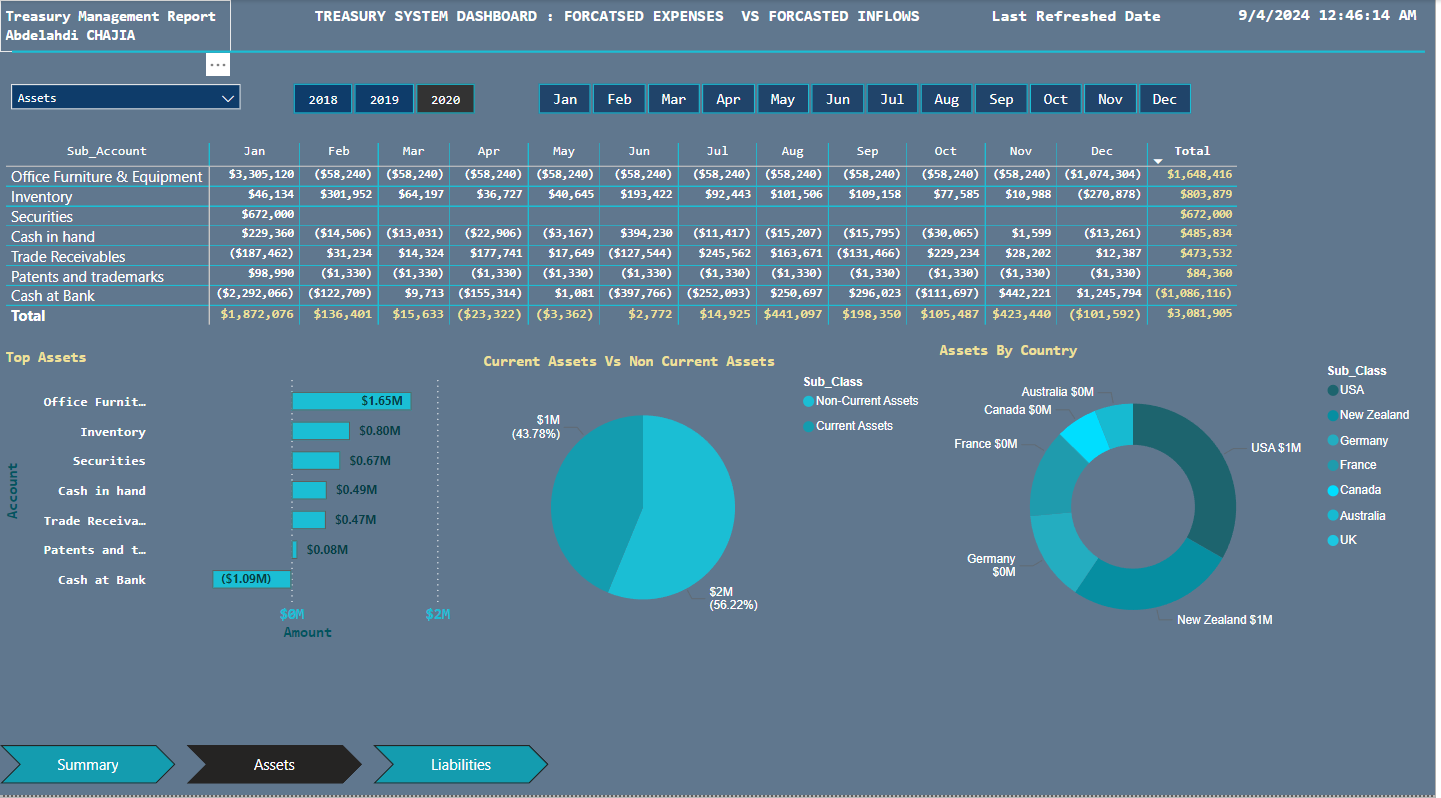

What the dashboard file says about the page in this screenshot:
{"tool":"powerbi","page":{"name":"Assets","canvas":[1300,720],"ordinal":1},"visuals":[{"type":"textbox","box":[279.6,0,567,33.6],"z":0},{"type":"textbox","box":[0,0,209.4,47.4],"z":1000},{"type":"card","fields":{"Values":["Min(Date & Time.Date & Time)"]},"box":[1103.9,0,196.6,24.1],"z":2000},{"type":"textbox","box":[893,0,185.7,33.6],"z":3000},{"type":"pivotTable","fields":{"Values":["GL.Total_Amount"],"Columns":["GL.Month"],"Rows":["GL.Sub_Account"]},"box":[0,124.5,1194.3,179.8],"z":4000},{"type":"slicer","fields":{"Values":["GL.Classe"]},"box":[0,66.5,227.9,44.3],"z":5000},{"type":"slicer","fields":{"Values":["Calendar.Year"]},"box":[240,69.1,214.4,41.5],"z":6000},{"type":"slicer","fields":{"Values":["GL.Month"]},"box":[462.3,69.1,641.1,41.5],"z":7000},{"type":"pieChart","title":"Current Assets Vs Non Current Assets","fields":{"Category":["GL.Sub_Classe_2"],"Y":["GL.Total_Amount"]},"box":[432.7,320.1,413.9,264.7],"z":8000},{"type":"clusteredBarChart","title":"Top Assets","fields":{"Category":["GL.Sub_Acount"],"Y":["GL.Total_Amount"]},"box":[0,316.1,432.7,268.7],"z":9000},{"type":"shape","box":[10.9,41,1280,12.1],"z":10000},{"type":"donutChart","title":"Assets By Country","fields":{"Category":["Territory.Country"],"Y":["GL.Total_Amount"]},"box":[846.6,310.2,444.5,283.5],"z":11000},{"type":"pageNavigator","box":[0,674.7,497.9,35.6],"z":12000}]}

Visuals, with their boxes in screenshot pixels (x1, y1, x2, y2), scaled from the page's 1300x720 canvas onto the 1441x798 screenshot:
textbox: locate(310, 0, 938, 37)
textbox: locate(0, 0, 232, 53)
card - Min(Date & Time.Date & Time): locate(1224, 0, 1440, 27)
textbox: locate(990, 0, 1196, 37)
pivotTable - GL.Total_Amount x GL.Month: locate(0, 138, 1324, 337)
slicer - GL.Classe: locate(0, 74, 253, 123)
slicer - Calendar.Year: locate(266, 77, 504, 123)
slicer - GL.Month: locate(512, 77, 1223, 123)
"Current Assets Vs Non Current Assets" pieChart: locate(480, 355, 938, 648)
"Top Assets" clusteredBarChart: locate(0, 350, 480, 648)
shape: locate(12, 45, 1431, 59)
"Assets By Country" donutChart: locate(938, 344, 1431, 658)
pageNavigator: locate(0, 748, 552, 787)
